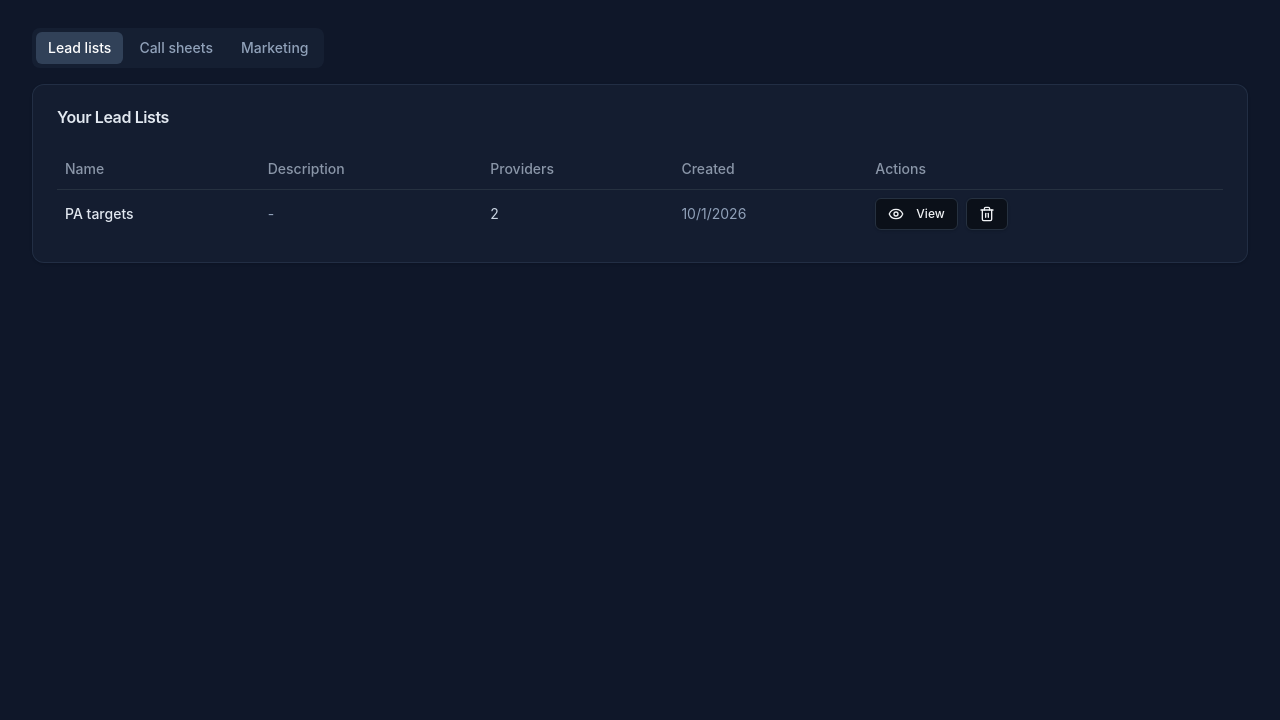
Lead list dialog details › shows every member's details, even next to a provider with many rows
Click the button "View" at (917, 214), box left=875, top=198, right=958, bottom=230
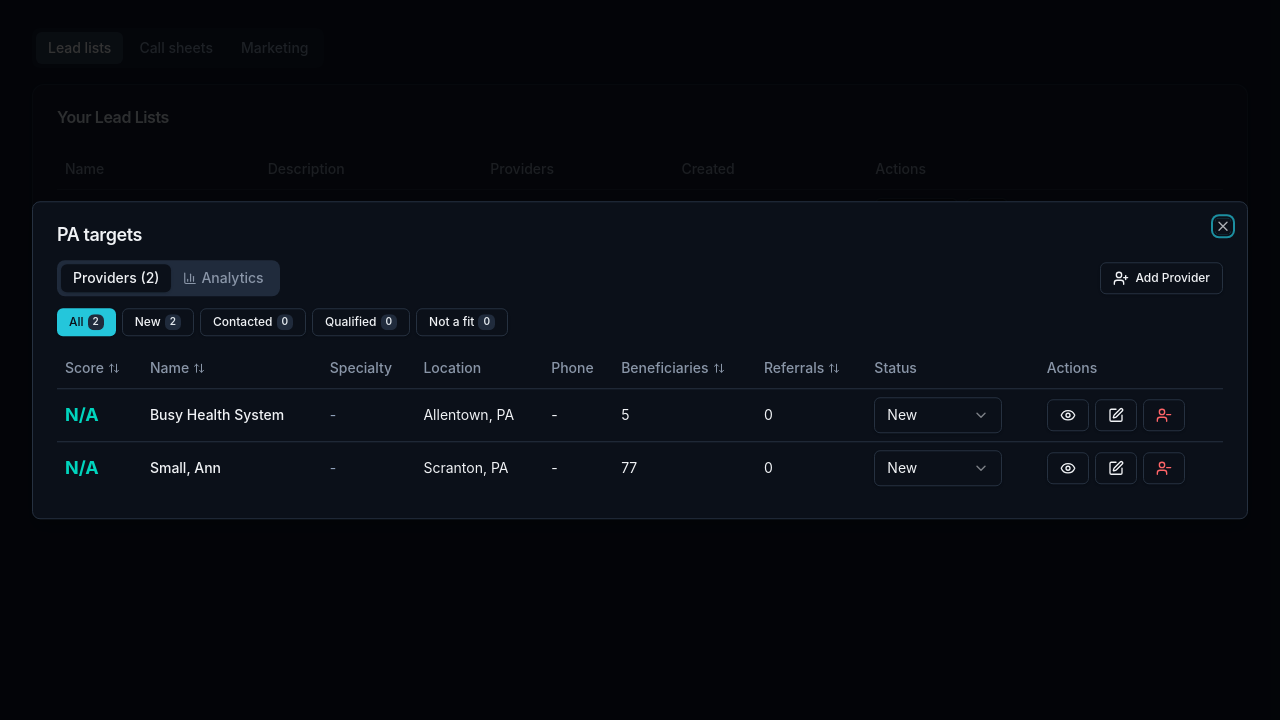
Expected: the text "Scranton, PA" is shown, left=415, top=441, right=543, bottom=494
Expected: the text "Allentown, PA" is shown, left=415, top=388, right=543, bottom=441
Expected: the text "77" is shown, left=613, top=441, right=756, bottom=494
